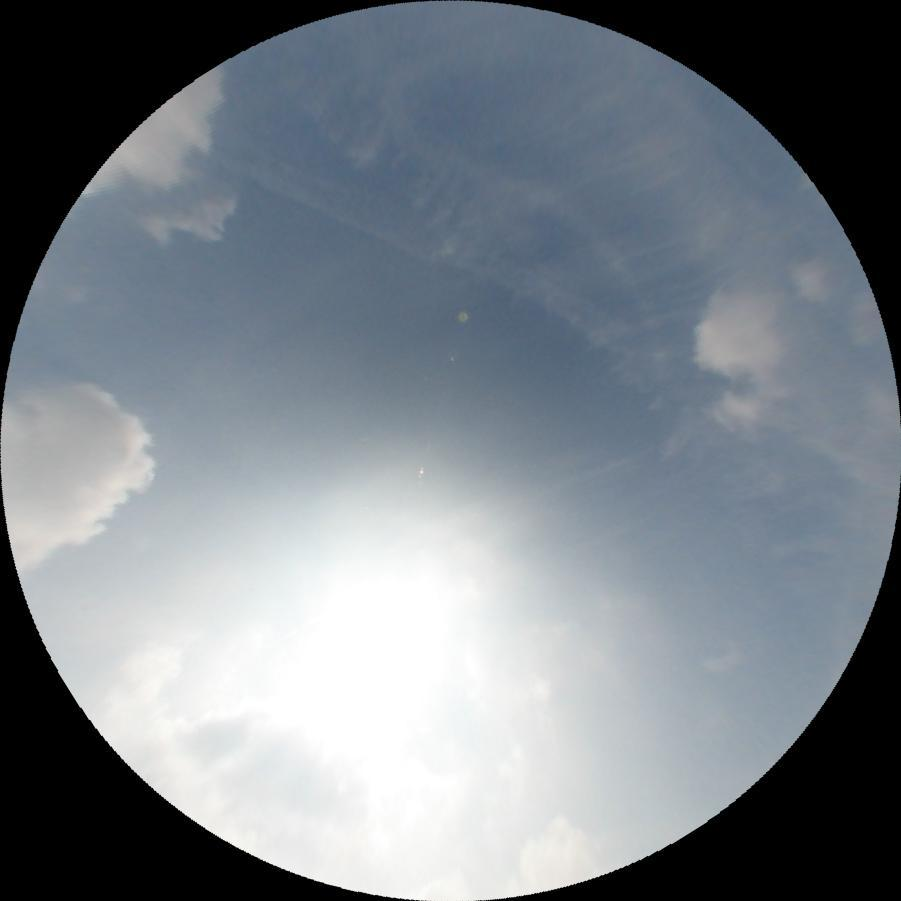contrail veryold: (200, 104, 901, 515)
sun: (278, 519, 501, 737)
